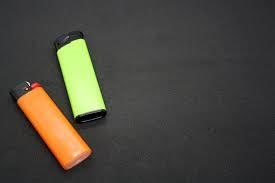lighter: (8, 76, 90, 173), (53, 30, 109, 120)
